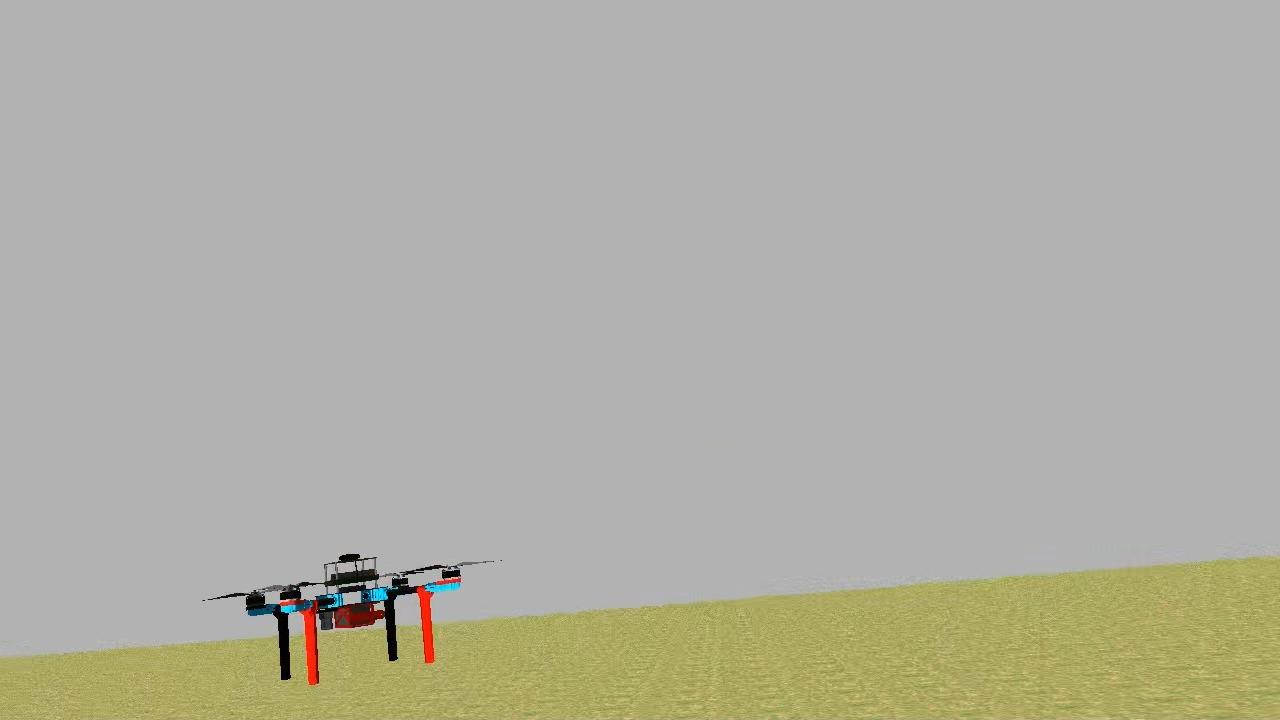UAV: (242, 548, 470, 692)
